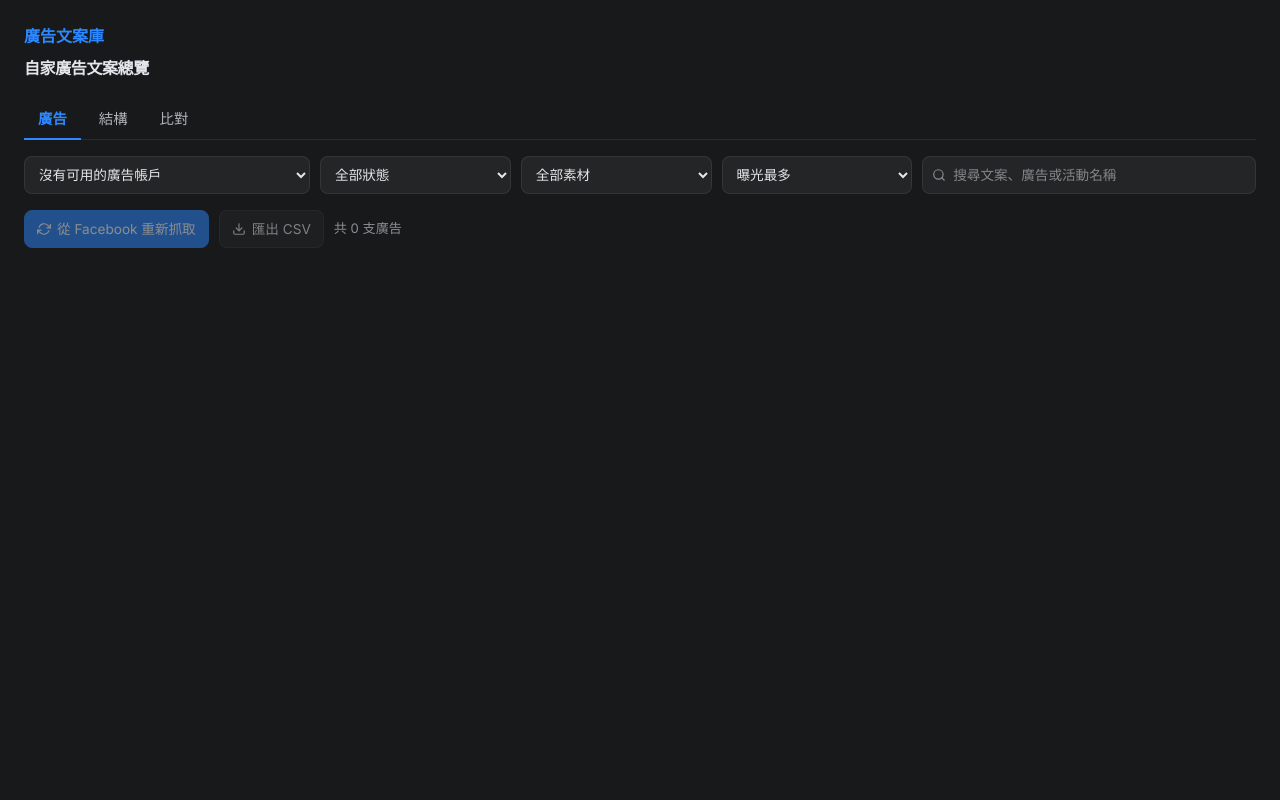
AdLibrary › guides the user to settings when no AI key is configured
Click the tab "結構" at (113, 120), box [85,100,142,140]
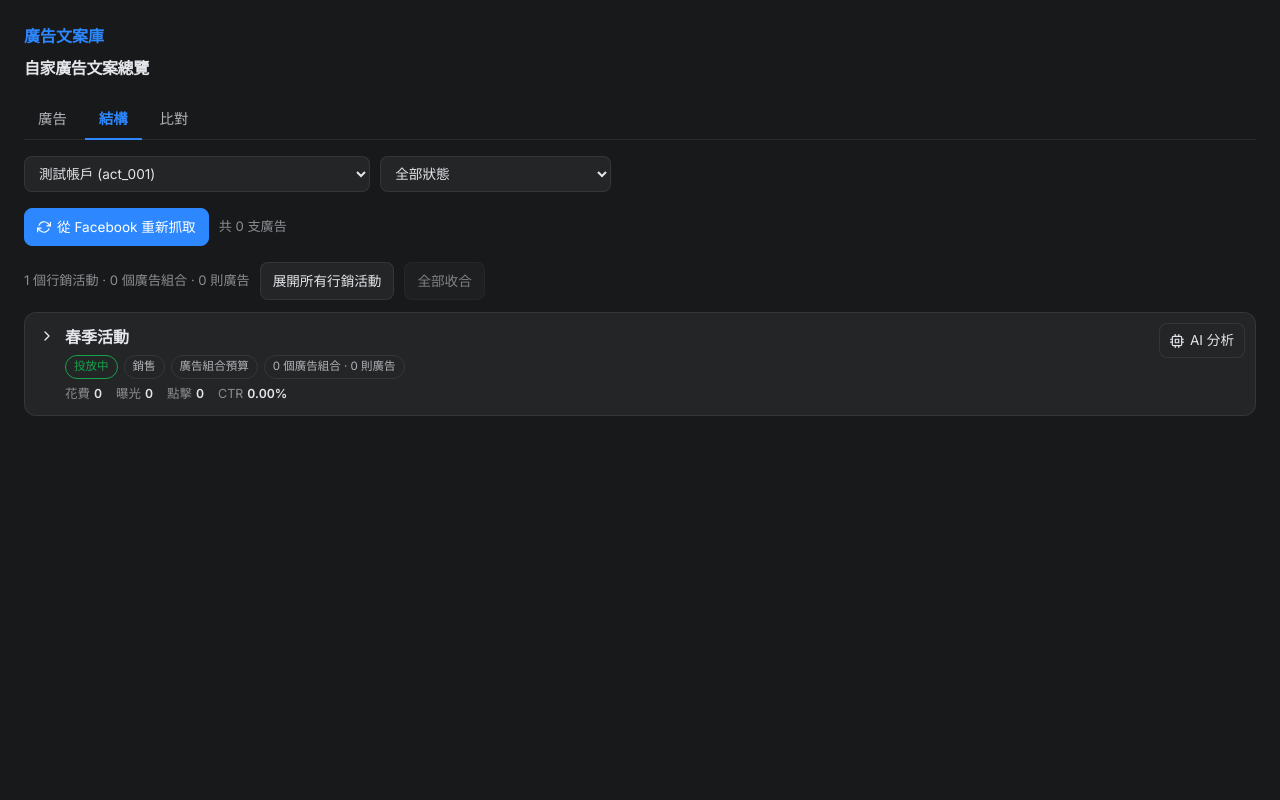
Click the button with aria-label "AI 分析：春季活動" at (1202, 341), box [1159,323,1245,358]
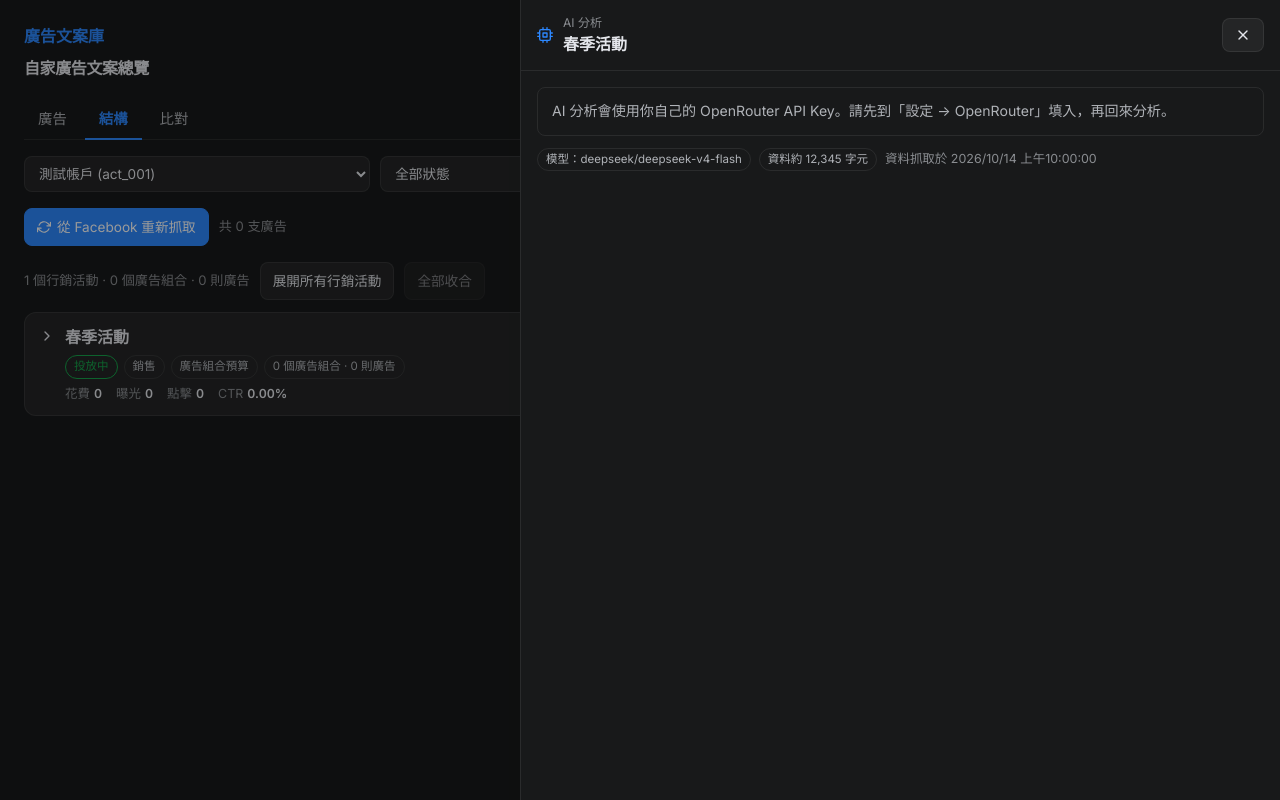
Now the text "AI 分析會使用你自己的 OpenRouter API Key。請先到「設定 → OpenRouter」填入，再回來分析。" is shown, box [537,87,1264,136]
